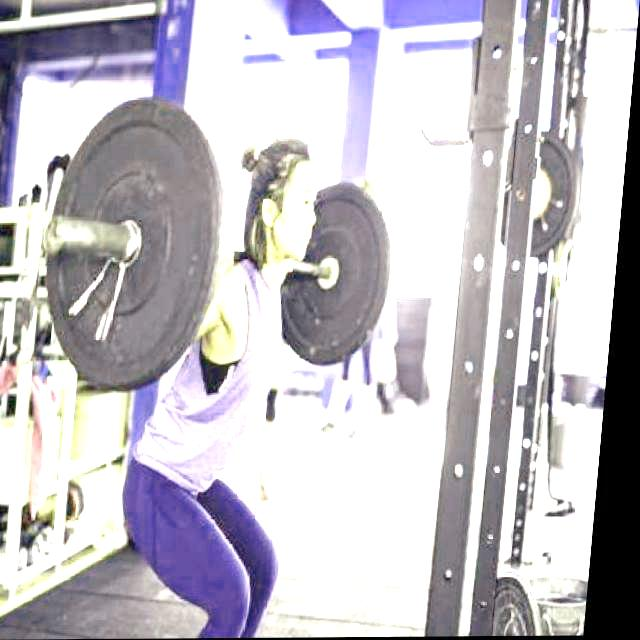barbell: (35, 96, 241, 395)
